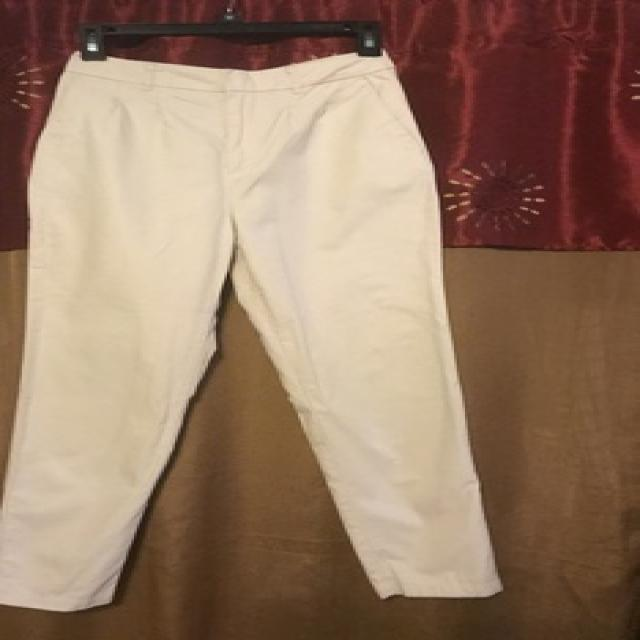long-pants: (0, 47, 507, 609)
